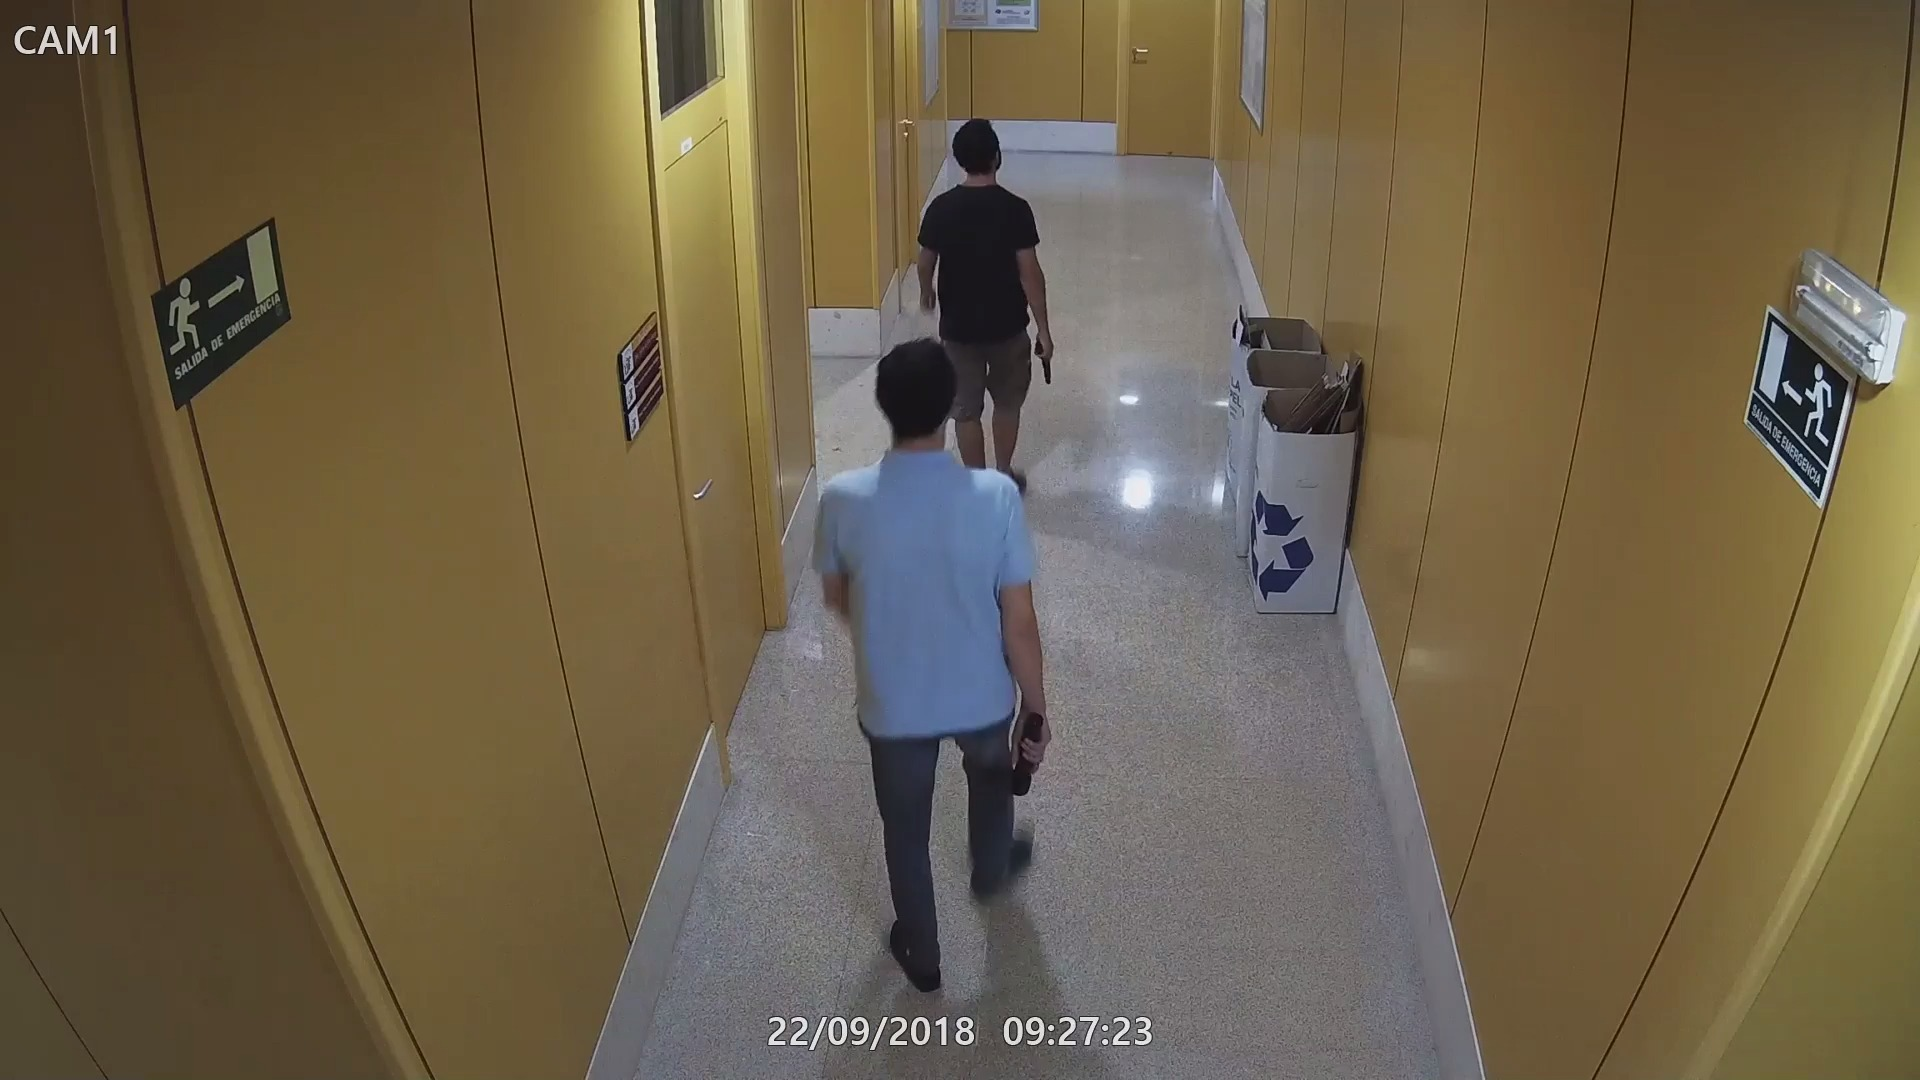Handgun: (1033, 324, 1059, 385)
